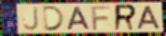A: (66, 6, 92, 31), (136, 5, 162, 30)
D: (42, 5, 67, 32)
F: (90, 5, 112, 31)
J: (22, 6, 40, 32)
R: (113, 3, 138, 32)
